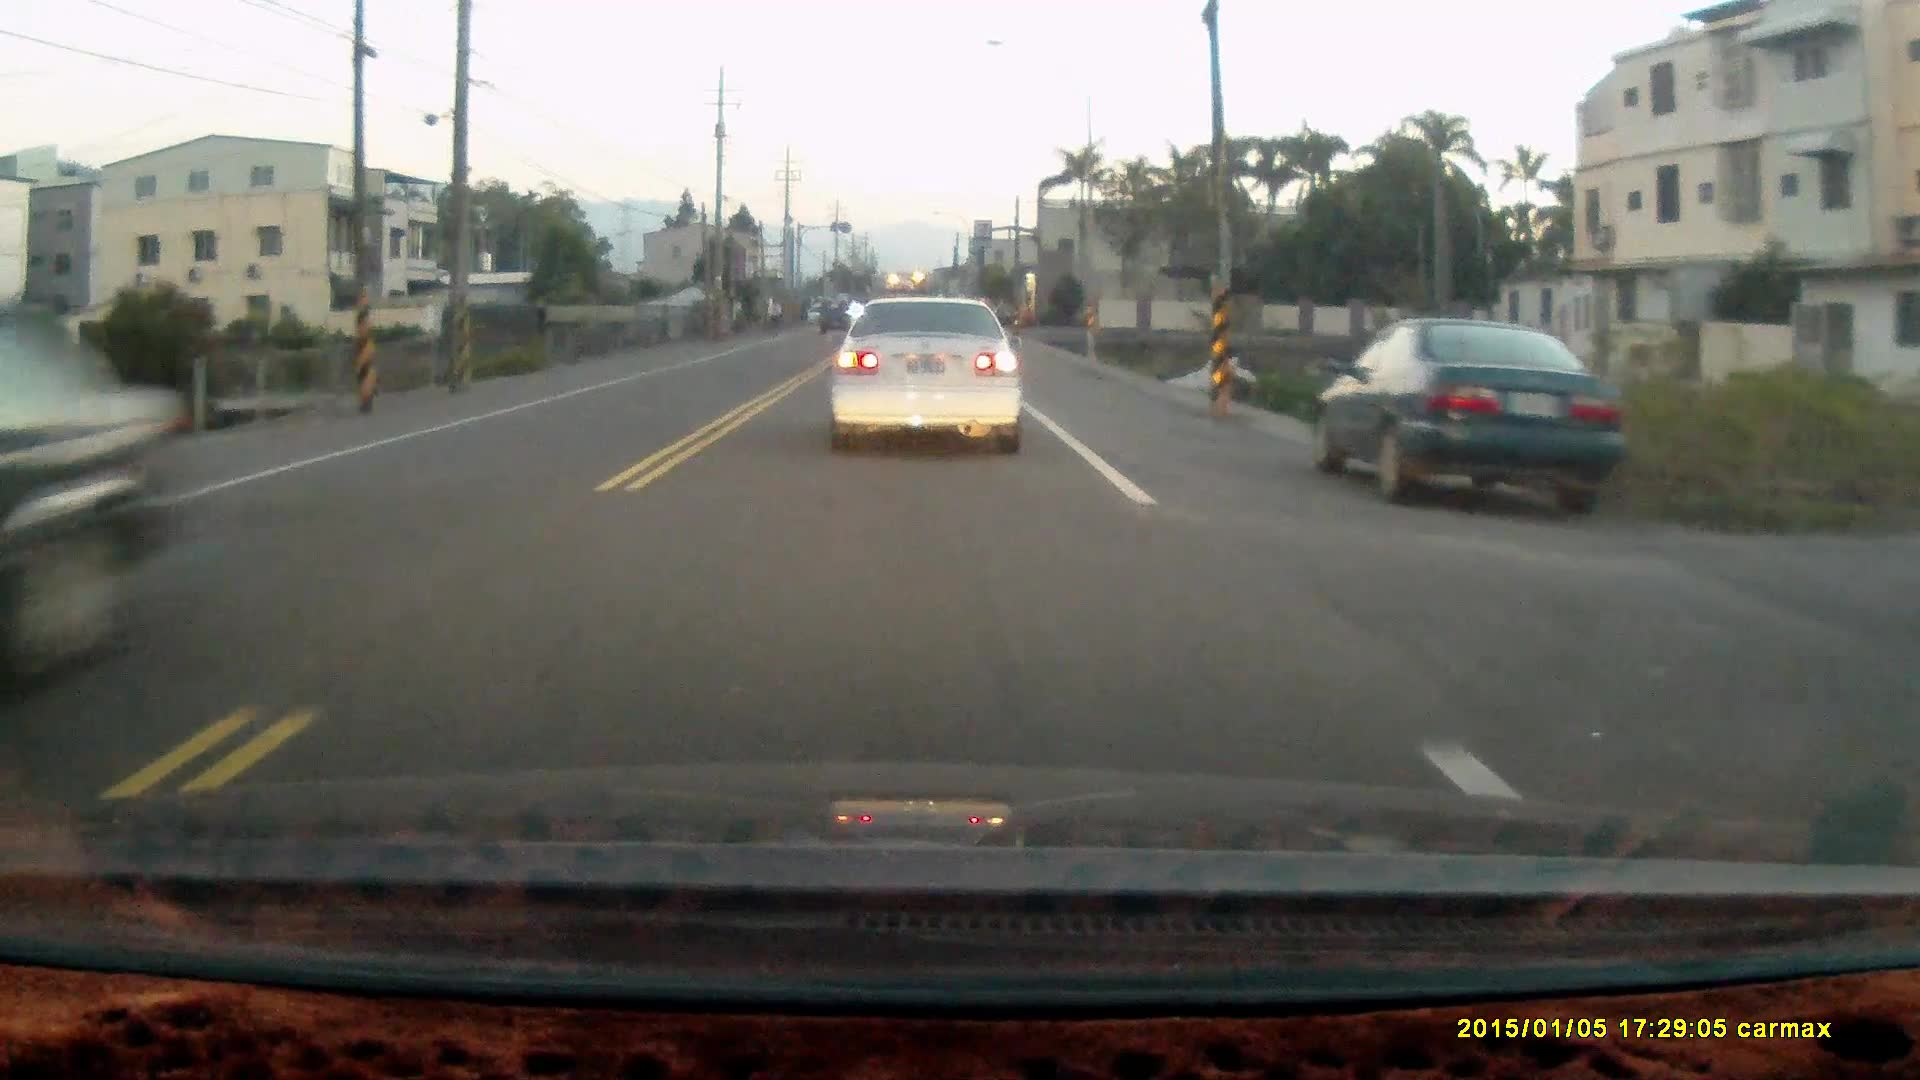vehicle: (1, 335, 194, 653), (1304, 320, 1619, 502), (829, 286, 1025, 440), (819, 299, 853, 335)
